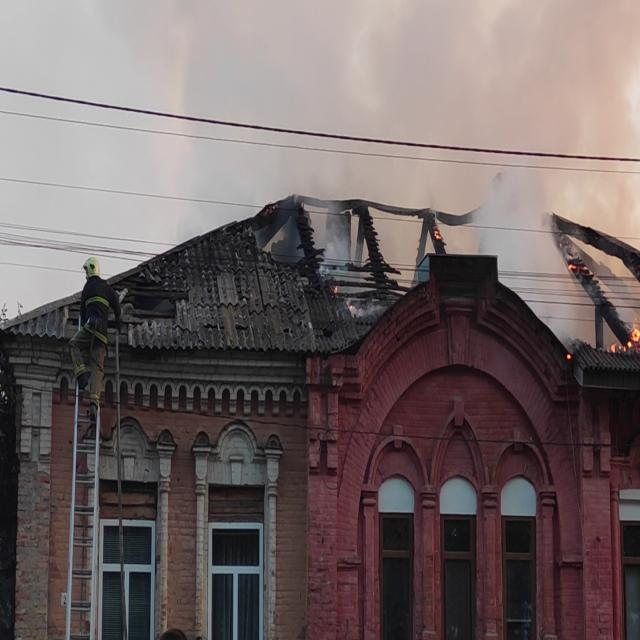smoke: (200, 68, 302, 186)
